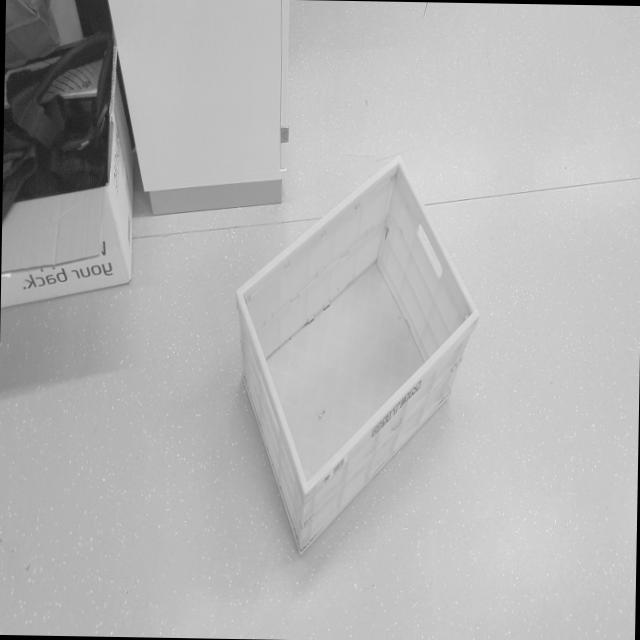box: (227, 141, 493, 574)
